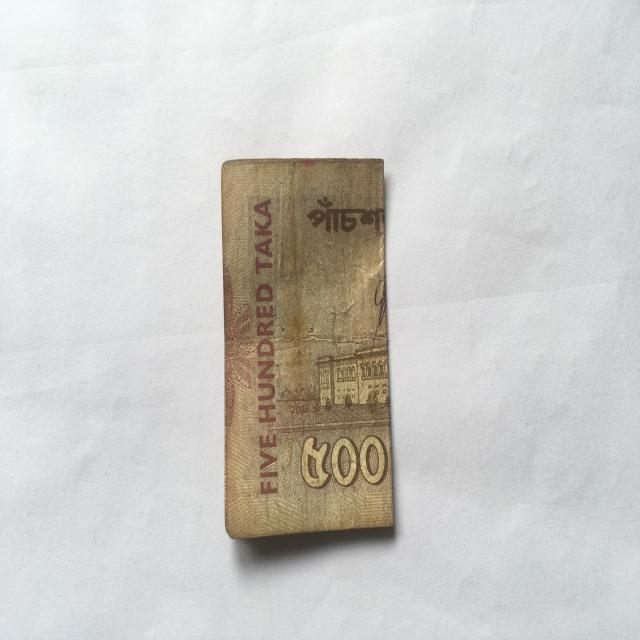Taka: (217, 148, 401, 539)
